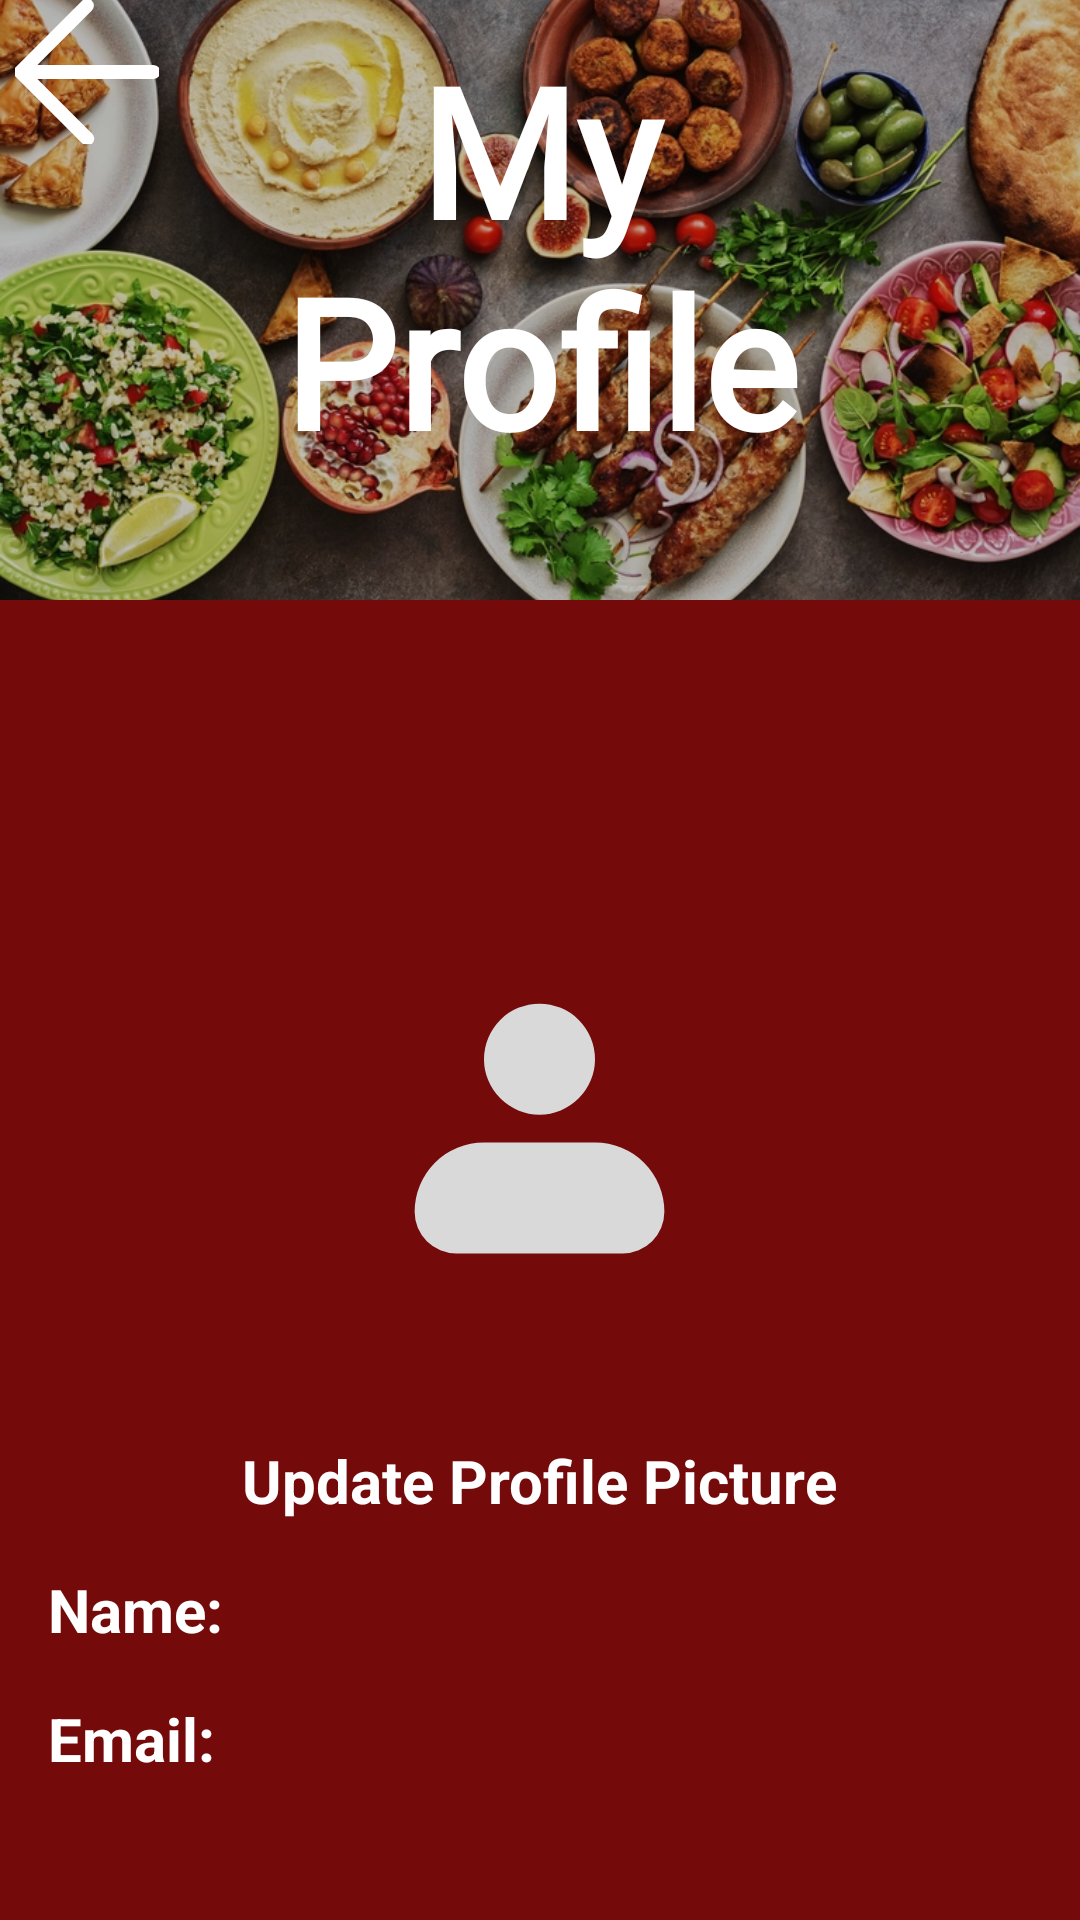

Icon click points for this 1080 × 1920 phone screenshot, format (x=x, y=y):
vectormyprofile: (x=539, y=1128)
